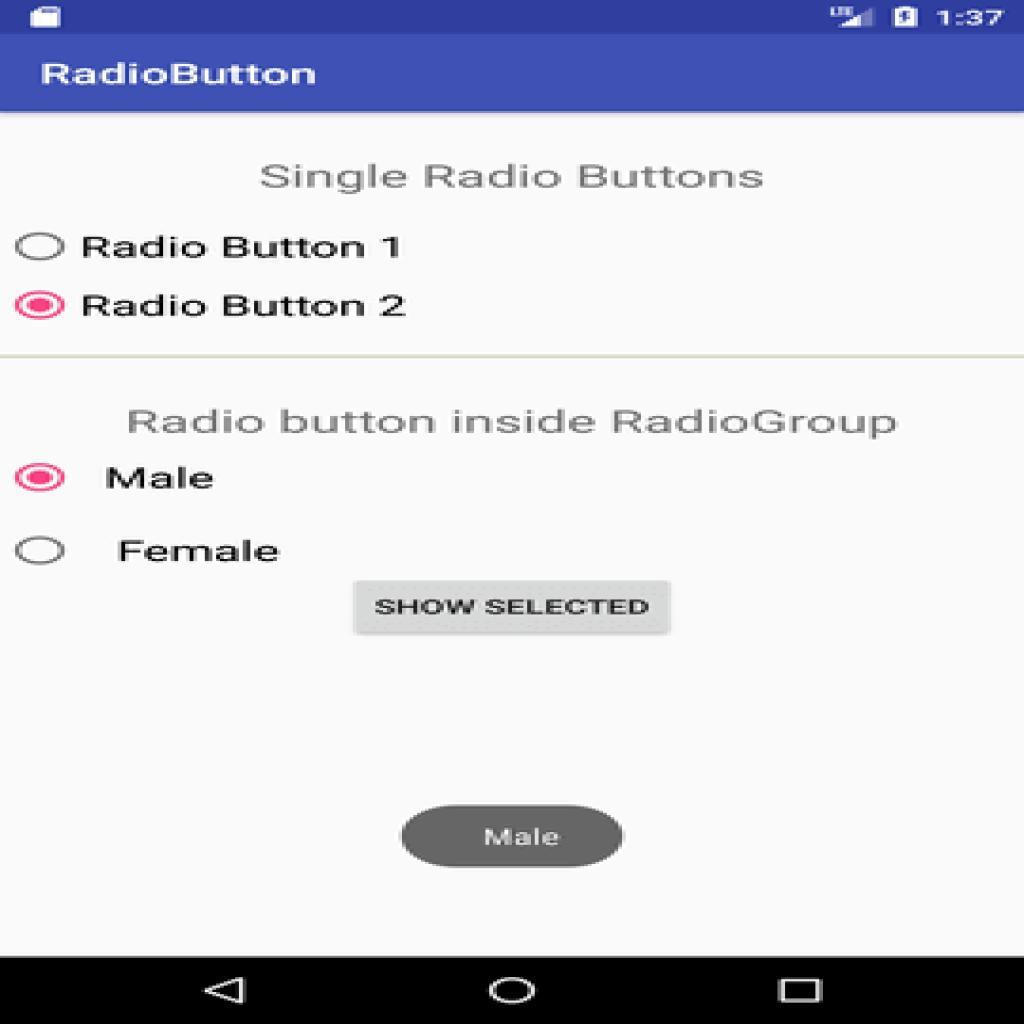button: (353, 584, 672, 636), (402, 804, 625, 871)
radio: (9, 286, 70, 328), (9, 228, 74, 266), (9, 458, 73, 496), (14, 533, 69, 567)
